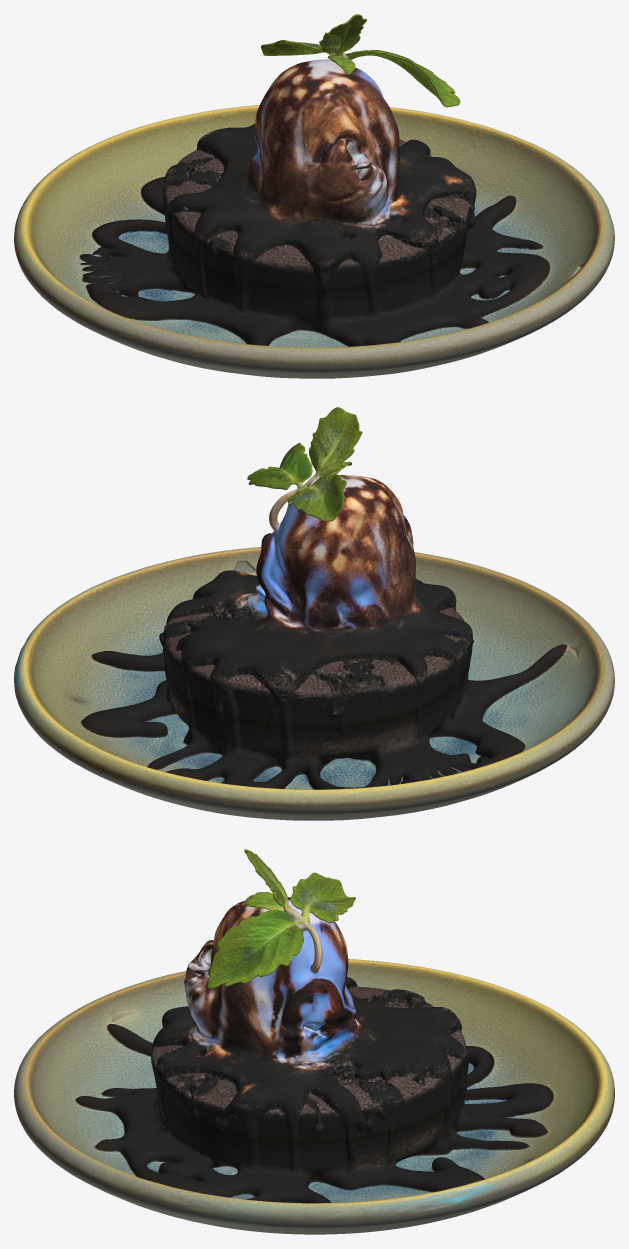
The model's file is browni-v1.glb.
3 renders of one model, top to bottom at view 1: azimuth 30°, elevation 25°; view 2: azimuth 150°, elevation 25°; view 3: azimuth 270°, elevation 25°, orthographic.
Parts seen in each view (by area): view 1: tripo_node_7c3352b7-21ee-4e46-aa82-f0932a710b5d; view 2: tripo_node_7c3352b7-21ee-4e46-aa82-f0932a710b5d; view 3: tripo_node_7c3352b7-21ee-4e46-aa82-f0932a710b5d.
Boxes of the visible parts, left/top/right/bottom form: tripo_node_7c3352b7-21ee-4e46-aa82-f0932a710b5d: left=14, top=14, right=614, bottom=378; tripo_node_7c3352b7-21ee-4e46-aa82-f0932a710b5d: left=14, top=407, right=614, bottom=820; tripo_node_7c3352b7-21ee-4e46-aa82-f0932a710b5d: left=14, top=849, right=614, bottom=1234.
Size of the model in its own units: 0.9999 by 0.5492 by 1.
Materials: 1 (1 with a texture image).
